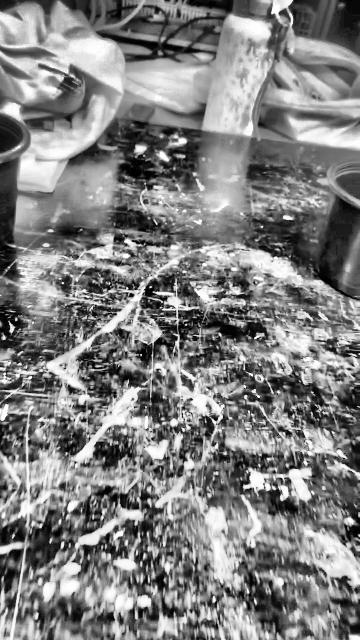pot: (319, 165, 360, 303), (0, 115, 29, 249)
